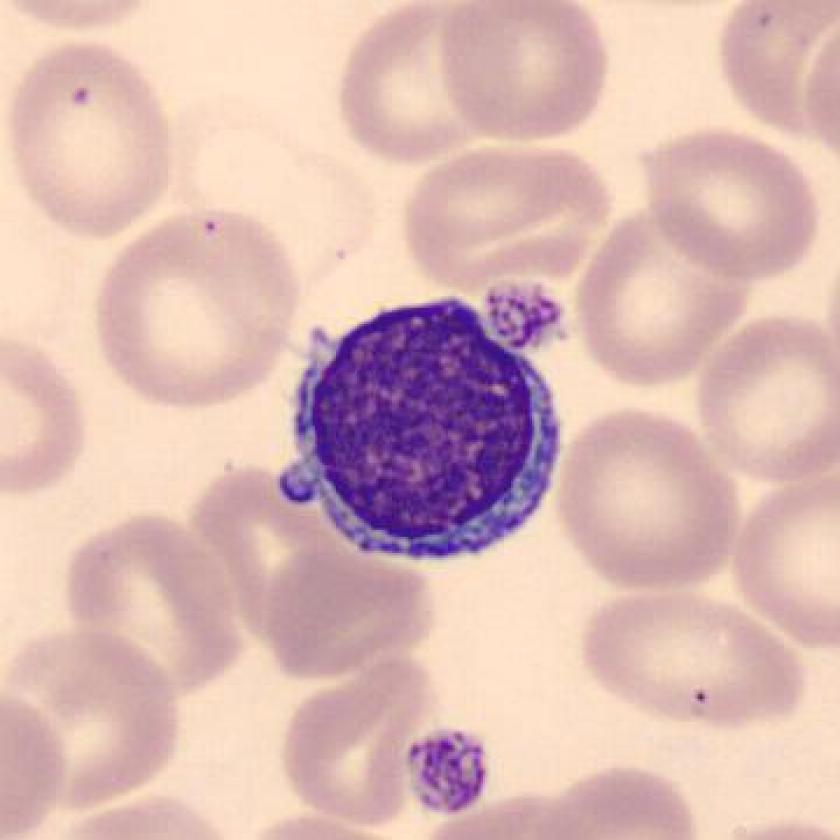lymphocyte: (274, 292, 570, 575)
